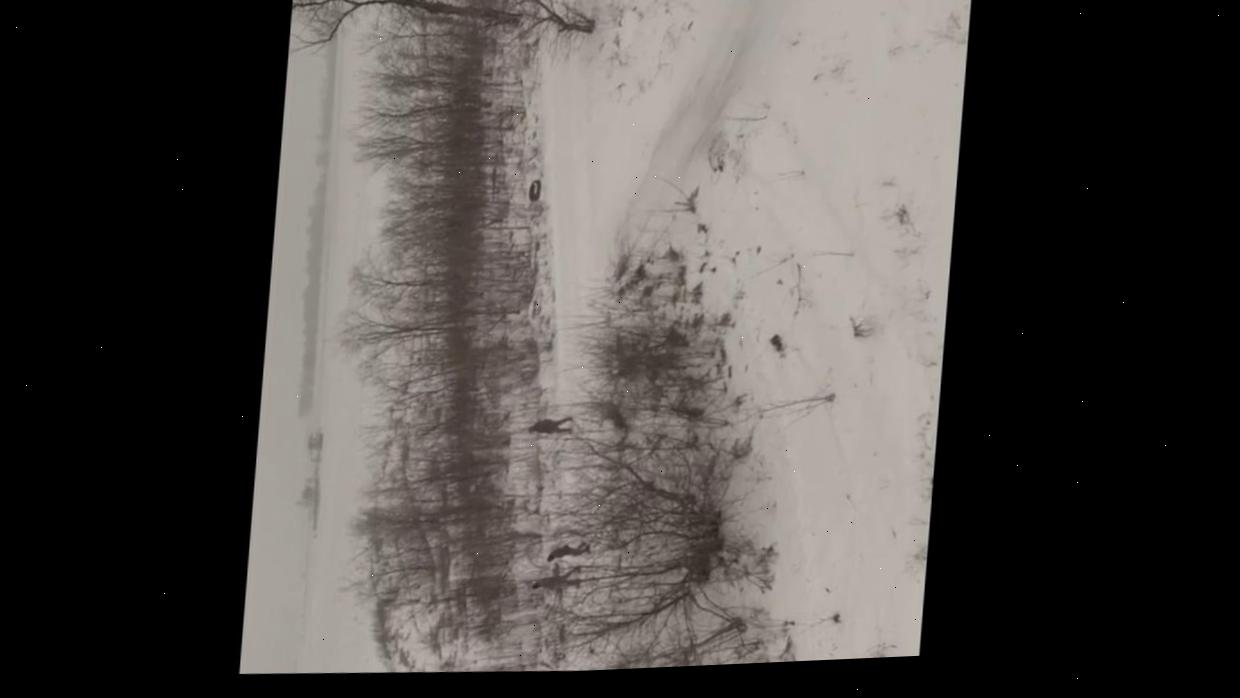person: (530, 563, 583, 593), (546, 538, 591, 564), (527, 414, 574, 438)
